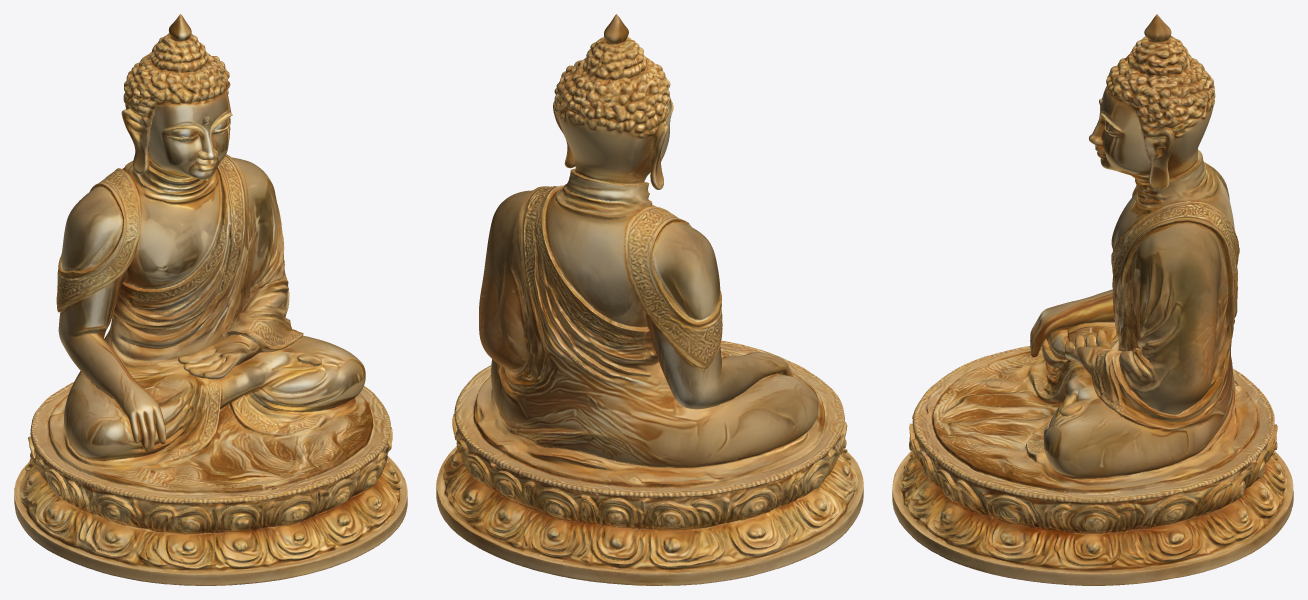
The model's file is golden_buddha_pbr.glb.
The picture shows the model from 3 angles, left to right: view 1: azimuth 30°, elevation 25°; view 2: azimuth 150°, elevation 25°; view 3: azimuth 270°, elevation 25°; orthographic projection. The views are drawn at different scales.
Parts seen in each view (by area): view 1: model; view 2: model; view 3: model.
Boxes of the visible parts, <box> form: model: <box>14,14,407,585</box>; model: <box>436,14,863,585</box>; model: <box>892,14,1293,585</box>.
Bounding box in the file's own units: 1.38 × 1.8 × 1.35.
1 material, 1 textured.
